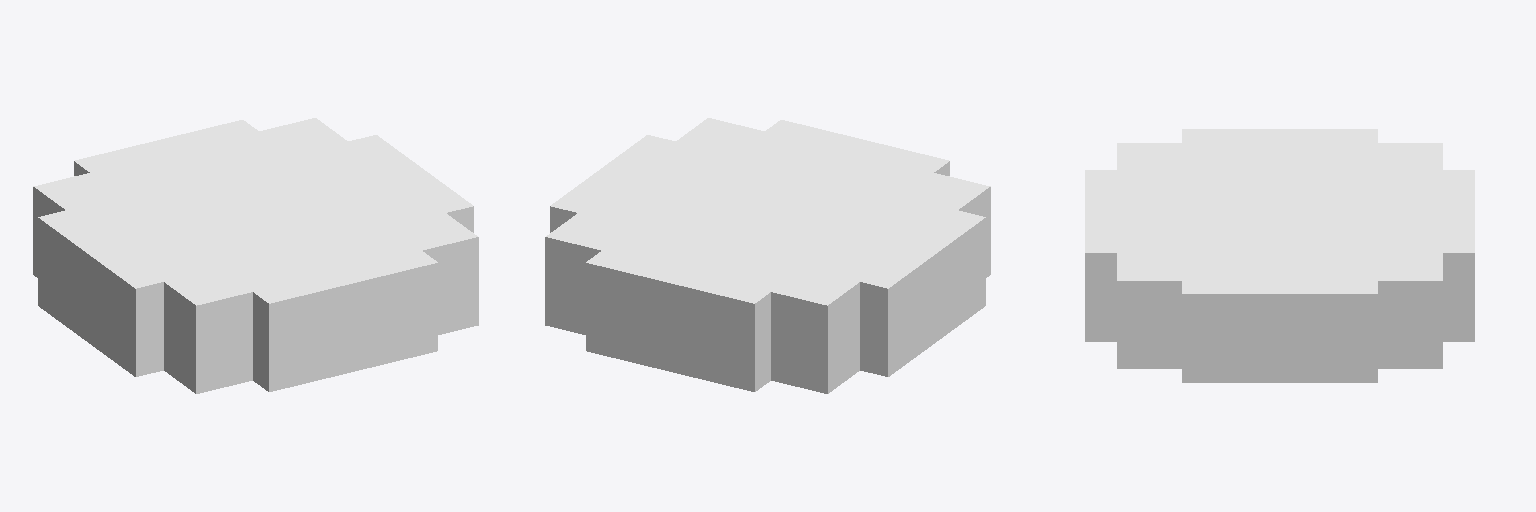
File: lilypad.obj
The picture shows the model from 3 angles: view 1: azimuth 30°, elevation 25°; view 2: azimuth 150°, elevation 25°; view 3: azimuth 270°, elevation 25°; orthographic projection.
Visible parts, largest first — view 1: lilypad; view 2: lilypad; view 3: lilypad.
Part boxes in pixels (x1,y1,x2,y2): lilypad: (33,118,478,393); lilypad: (545,118,990,393); lilypad: (1085,129,1474,382).
Size of the model in its own units: 1.2 by 0.3 by 1.2.